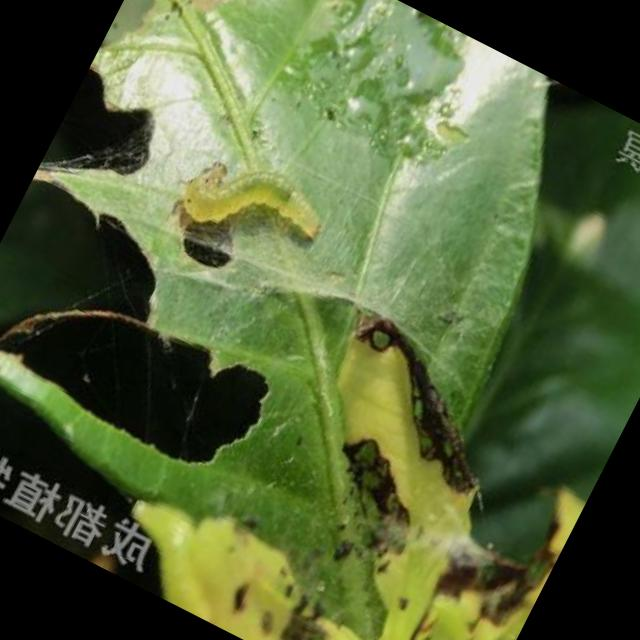leaf-folder: (149, 104, 356, 298)
